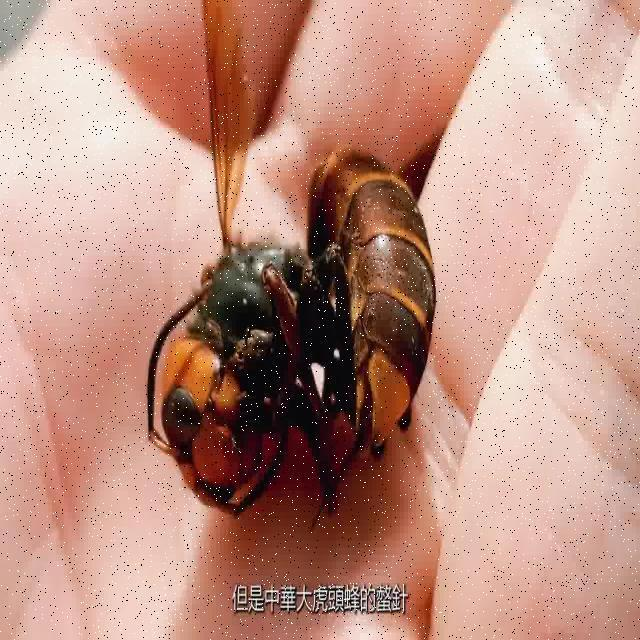Wasp: (144, 0, 442, 532)
